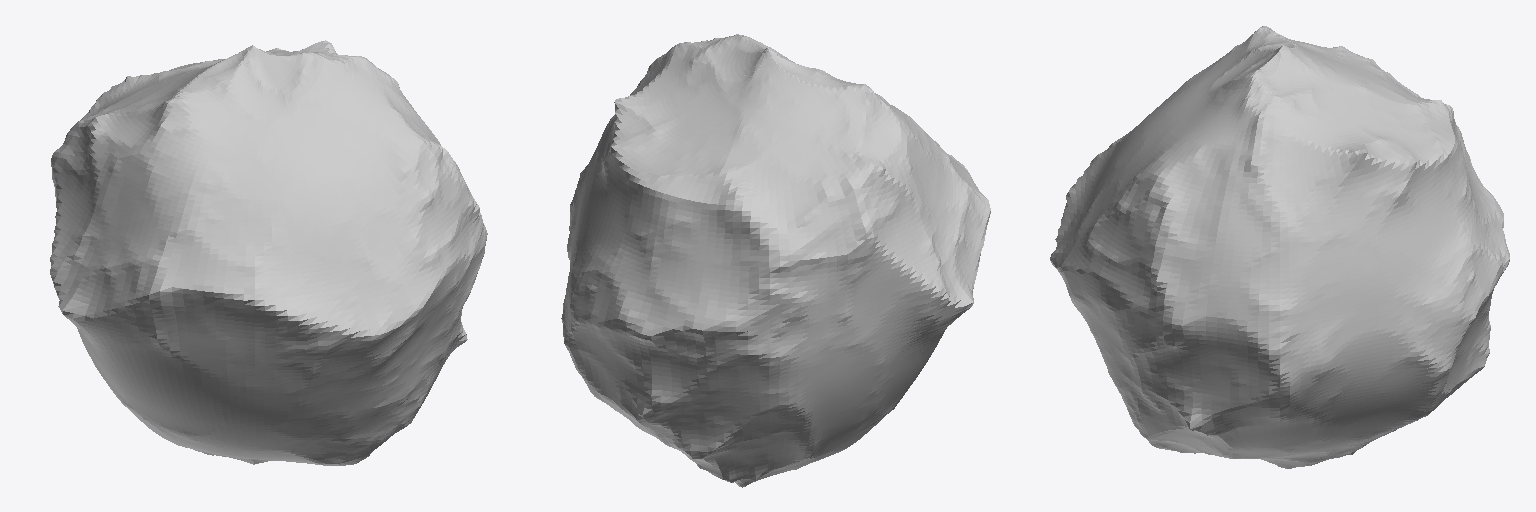
Rendered from boulder.obj.
3 views of the same model, side by side, from view 1: azimuth 30°, elevation 25°; view 2: azimuth 150°, elevation 25°; view 3: azimuth 270°, elevation 25° (orthographic).
Parts seen in each view (by area): view 1: Landscape; view 2: Landscape; view 3: Landscape.
Part boxes in pixels (bbox=[...]): Landscape: bbox=[50, 40, 487, 465]; Landscape: bbox=[561, 34, 990, 487]; Landscape: bbox=[1050, 26, 1509, 468].
Size of the model in its own units: 2.41 by 2.42 by 2.41.